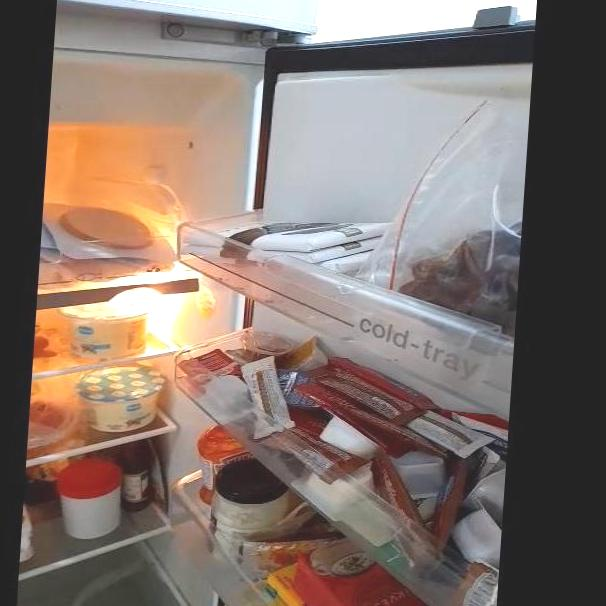butter: (254, 566, 420, 606)
chocolate: (198, 218, 375, 271)
dates: (407, 225, 526, 329)
salami: (46, 201, 169, 259)
sauce: (115, 443, 157, 506), (199, 424, 254, 470)
yoghurt: (56, 304, 159, 359), (78, 367, 166, 429)
